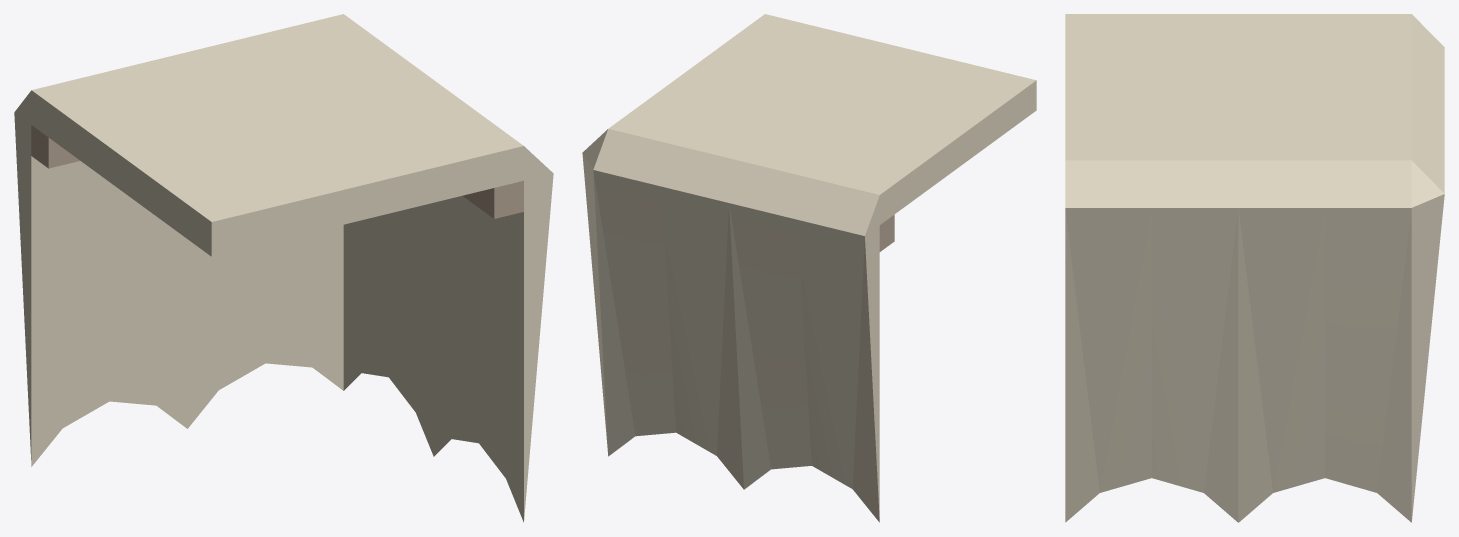
Rendered from Canopy_Corner.glb.
The picture shows the model from 3 angles, left to right: view 1: azimuth 30°, elevation 25°; view 2: azimuth 150°, elevation 25°; view 3: azimuth 270°, elevation 25°; orthographic projection. The views are drawn at different scales.
Visible parts, largest first — view 1: object2, object1; view 2: object2; view 3: object2.
Part boxes in pixels (x1,y1,x2,y2): object2: [14, 14, 553, 522]; object1: [31, 125, 523, 218]; object2: [582, 14, 1036, 522]; object2: [1065, 14, 1444, 522].
Size of the model in its own units: 1.15 by 1.21 by 1.15.
